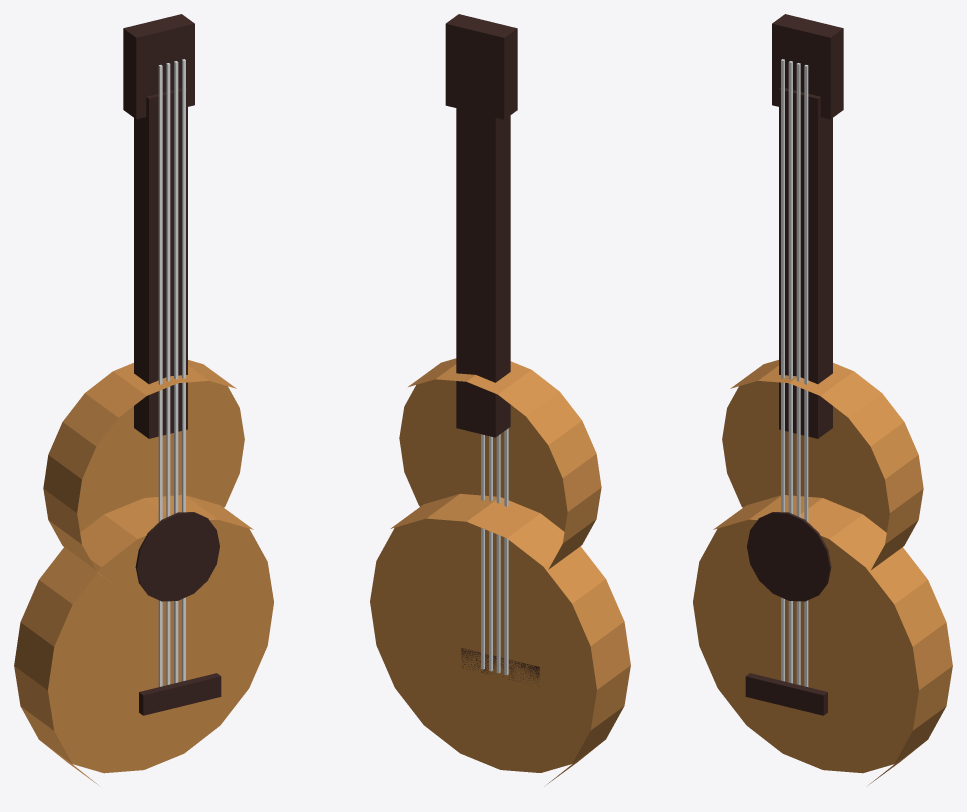
The model's file is gitarr.glb.
The picture shows the model from 3 angles, left to right: view 1: azimuth 30°, elevation 25°; view 2: azimuth 150°, elevation 25°; view 3: azimuth 330°, elevation 25°; orthographic projection.
Visible parts, largest first — view 1: gitarr; view 2: gitarr; view 3: gitarr.
Boxes of the visible parts, x1=… form: gitarr: x1=14, y1=14, x2=273, y2=785; gitarr: x1=370, y1=14, x2=630, y2=786; gitarr: x1=693, y1=14, x2=952, y2=785.
Size of the model in its own units: 0.4 by 1.11 by 0.102.
